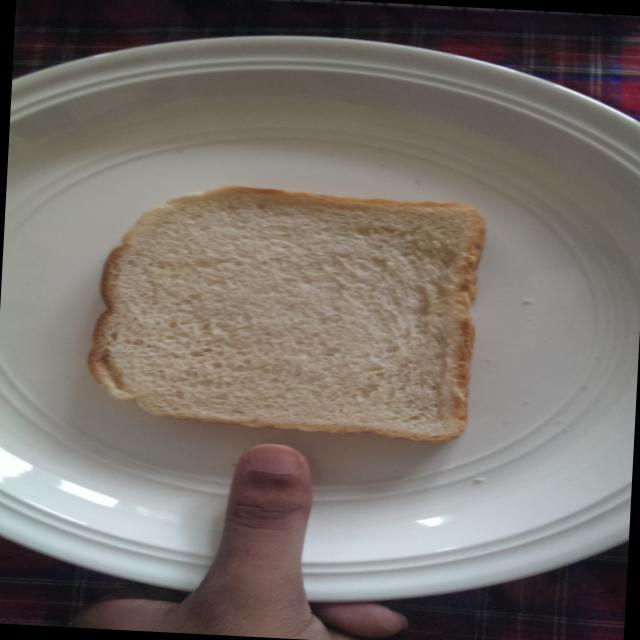Bread: (76, 174, 493, 450)
Finger: (202, 439, 338, 559)
